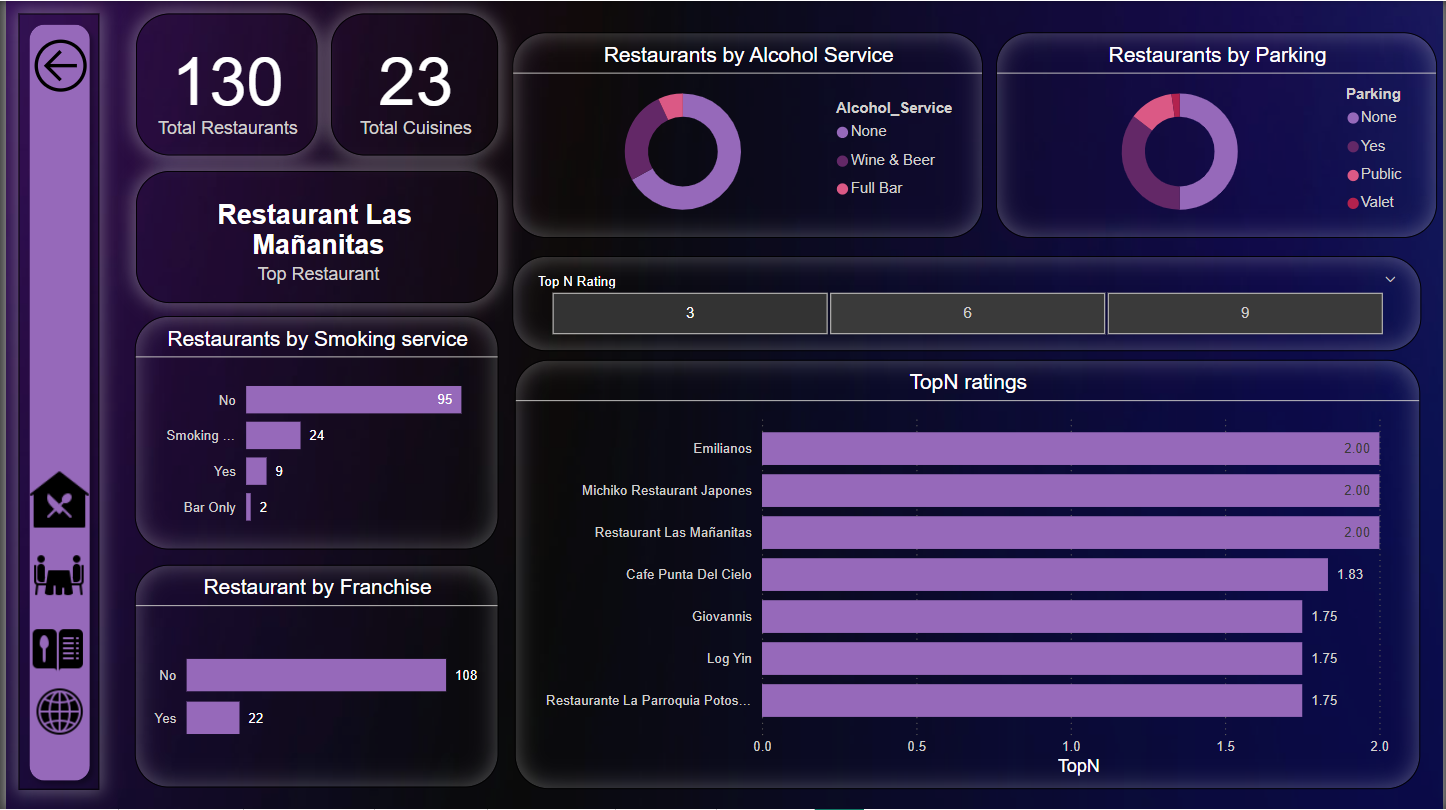

The dashboard page shown, as its layout file describes it:
{"tool":"powerbi","page":{"name":"Restaurants","canvas":[1280,720],"ordinal":2},"visuals":[{"type":"shape","box":[11.2,11.2,71.7,691.3],"z":0},{"type":"card","fields":{"Values":["Measures (2).Total_restaurants"]},"box":[115.8,11,161.2,126.8],"z":1000},{"type":"card","fields":{"Values":["Min(dim_restaurants.Name)"]},"box":[115.8,151.8,322.4,117.4],"z":2000},{"type":"barChart","title":"TopN ratings","fields":{"Category":["dim_restaurants.Name"],"Y":["Measures (2).TopN"]},"box":[453.2,319.1,806.1,382.6],"z":3000},{"type":"slicer","fields":{"Values":["Top N Rating.Top N Rating"]},"box":[450.8,227,809.2,84.5],"z":4000},{"type":"donutChart","title":"Restaurants by Alcohol Service","fields":{"Category":["dim_restaurants.Alcohol_Service"],"Y":["CountNonNull(dim_restaurants.Restaurant_ID)"]},"box":[450.8,28.2,419.5,183.1],"z":5000},{"type":"clusteredBarChart","title":"Restaurants by Smoking service","fields":{"Category":["dim_restaurants.Smoking_Allowed"],"Y":["CountNonNull(dim_restaurants.Restaurant_ID)"]},"box":[114.3,280.2,324,208.2],"z":6000},{"type":"donutChart","title":"Restaurants by Parking","fields":{"Category":["dim_restaurants.Parking"],"Y":["CountNonNull(dim_restaurants.Restaurant_ID)"]},"box":[881.2,28.2,392.9,183.1],"z":7000},{"type":"clusteredBarChart","title":"Restaurant by Franchise","fields":{"Category":["dim_restaurants.Franchise"],"Y":["CountNonNull(dim_restaurants.Restaurant_ID)"]},"box":[114.3,502.4,324,198.8],"z":8000},{"type":"image","box":[15.7,407,64.2,75.1],"z":9000},{"type":"image","box":[18.8,605.7,57.9,54.8],"z":10000},{"type":"image","box":[17.2,482.1,61,57.9],"z":11000},{"type":"image","box":[18.8,551,54.8,54.8],"z":12000},{"type":"card","fields":{"Values":["Count(dim_restaurant_cuisines.Cuisine)"]},"box":[289.6,11,148.7,126.8],"z":13000},{"type":"actionButton","box":[18.8,28.2,67.3,59.5],"z":14000}]}

Visuals, with their boxes in screenshot pixels (x1, y1, x2, y2), scaled from the page's 1280x720 canvas onto the 1446x810 screenshot:
shape: (13, 13, 94, 790)
card - Measures (2).Total_restaurants: (131, 12, 313, 155)
card - Min(dim_restaurants.Name): (131, 171, 495, 303)
"TopN ratings" barChart: (512, 359, 1423, 789)
slicer - Top N Rating.Top N Rating: (509, 255, 1423, 350)
"Restaurants by Alcohol Service" donutChart: (509, 32, 983, 238)
"Restaurants by Smoking service" clusteredBarChart: (129, 315, 495, 549)
"Restaurants by Parking" donutChart: (995, 32, 1439, 238)
"Restaurant by Franchise" clusteredBarChart: (129, 565, 495, 789)
image: (18, 458, 90, 542)
image: (21, 681, 87, 743)
image: (19, 542, 88, 608)
image: (21, 620, 83, 682)
card - Count(dim_restaurant_cuisines.Cuisine): (327, 12, 495, 155)
actionButton: (21, 32, 97, 99)
